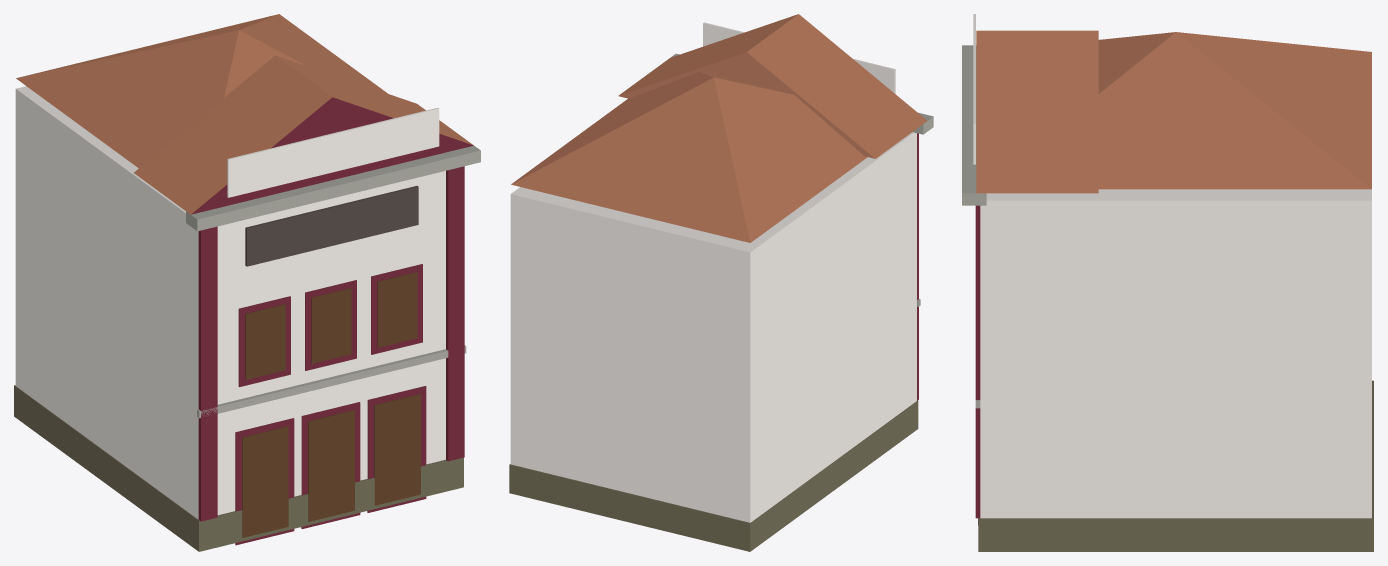
File: SM_KitRemate_v0_LOD0.fbx
3 views of the same model, side by side, from view 1: azimuth 30°, elevation 25°; view 2: azimuth 150°, elevation 25°; view 3: azimuth 270°, elevation 25° (orthographic). The views are drawn at different scales.
Visible parts, largest first — view 1: SM_bloques.kit_remate_v0_LOD0; view 2: SM_bloques.kit_remate_v0_LOD0; view 3: SM_bloques.kit_remate_v0_LOD0.
Part boxes in pixels (<box>): SM_bloques.kit_remate_v0_LOD0: <box>14,14,480,551</box>; SM_bloques.kit_remate_v0_LOD0: <box>509,14,933,551</box>; SM_bloques.kit_remate_v0_LOD0: <box>962,14,1373,551</box>.
Bounding box in the file's own units: 8.58 × 12.32 × 10.1.
